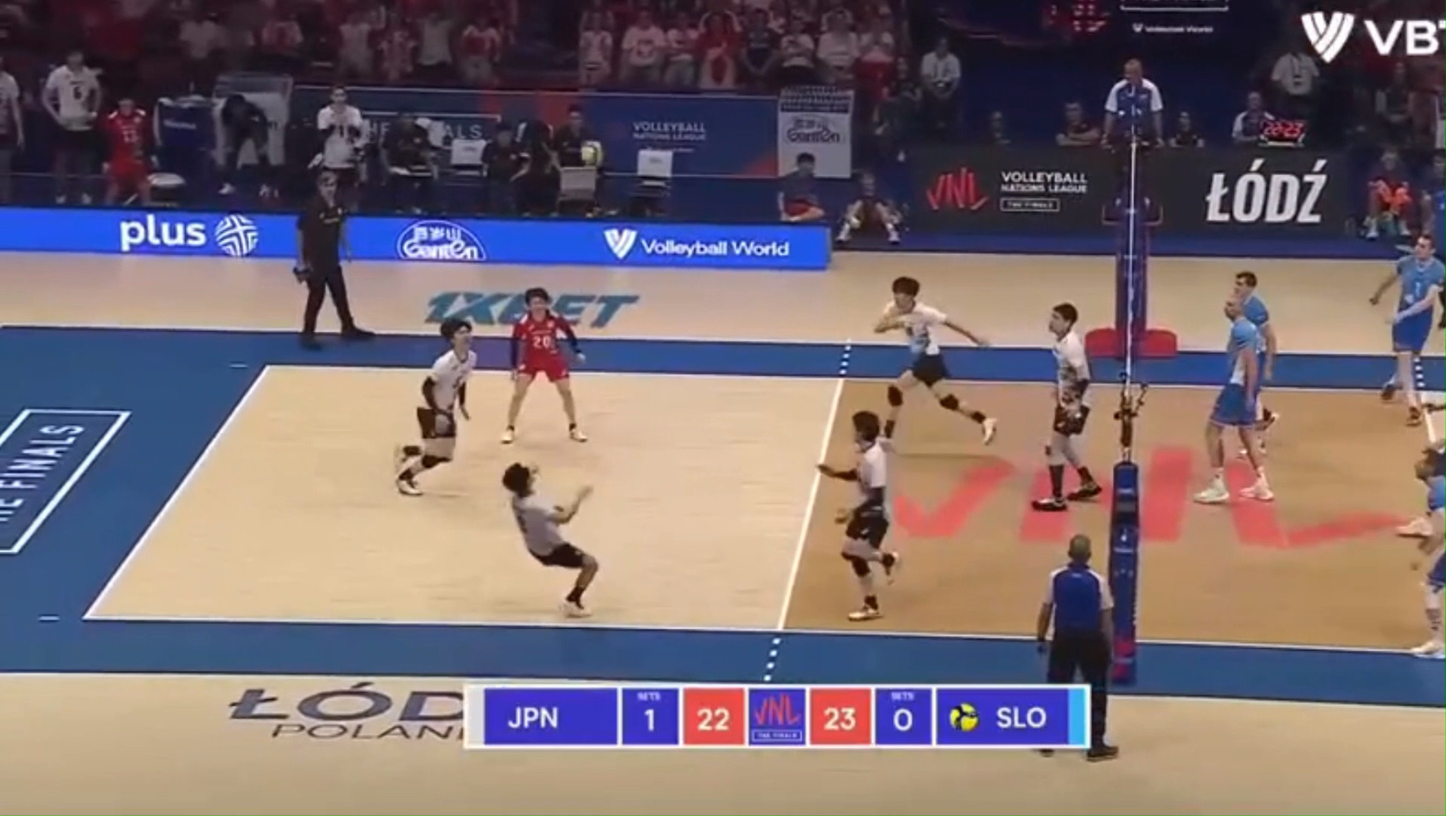ball: (579, 142, 600, 165)
player: (1194, 297, 1272, 503), (1369, 234, 1445, 425), (1234, 271, 1279, 453), (1410, 447, 1445, 659)
player 1: (875, 277, 996, 441), (817, 410, 898, 621), (502, 462, 598, 617), (1031, 302, 1101, 512), (394, 318, 477, 494), (502, 287, 587, 444)
referee: (1036, 535, 1117, 760), (293, 170, 373, 348), (1101, 58, 1163, 225)
